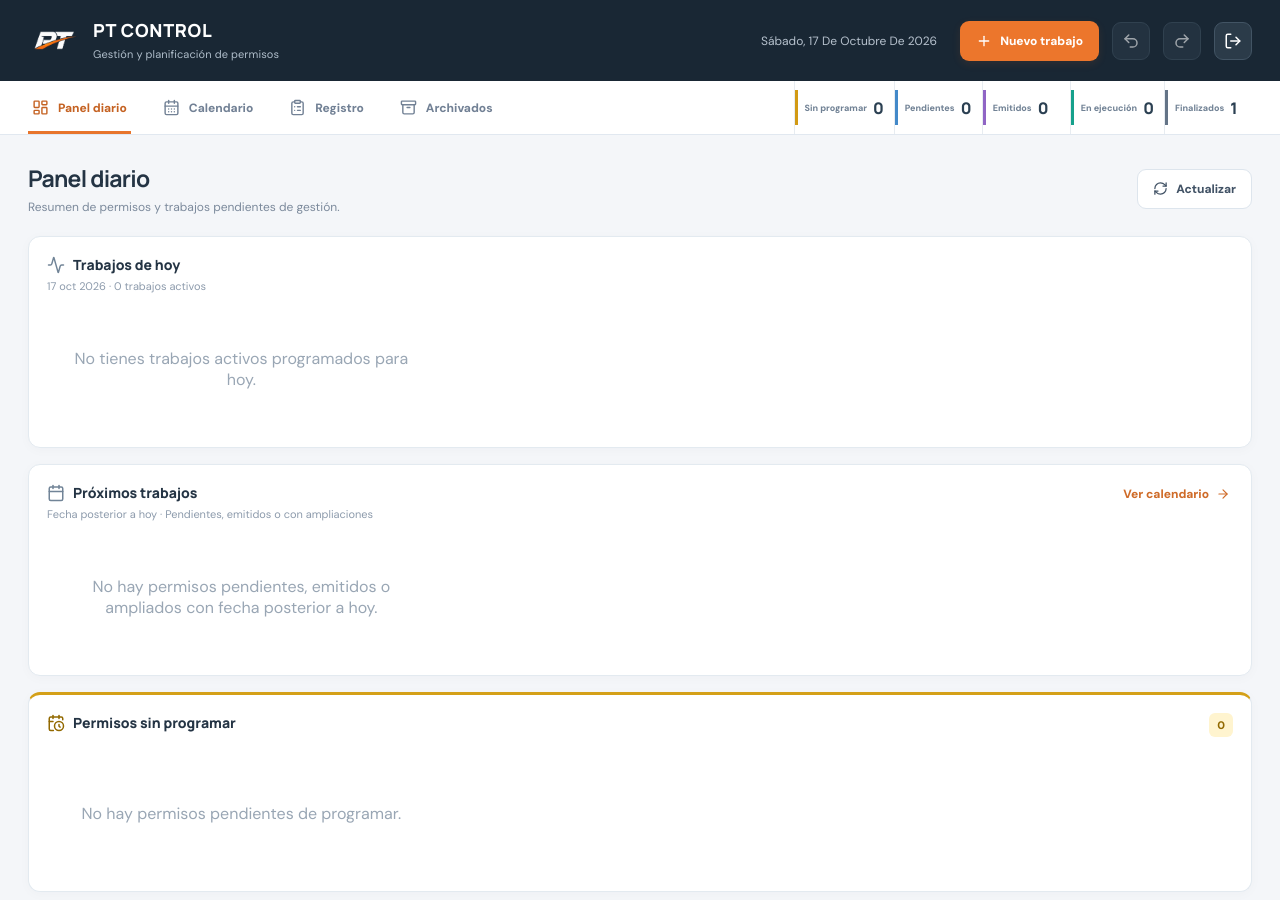
flujos completos con backend simulado solo en pruebas › puede reabrir un finalizado y volver a editarlo sin recuperar un estado obsoleto
The width and height of the screenshot is (1280, 900).
Expected: the heading "Panel diario" is shown, [28, 162, 150, 194]
Click the button "Archivados": (446, 108) [396, 81, 496, 134]
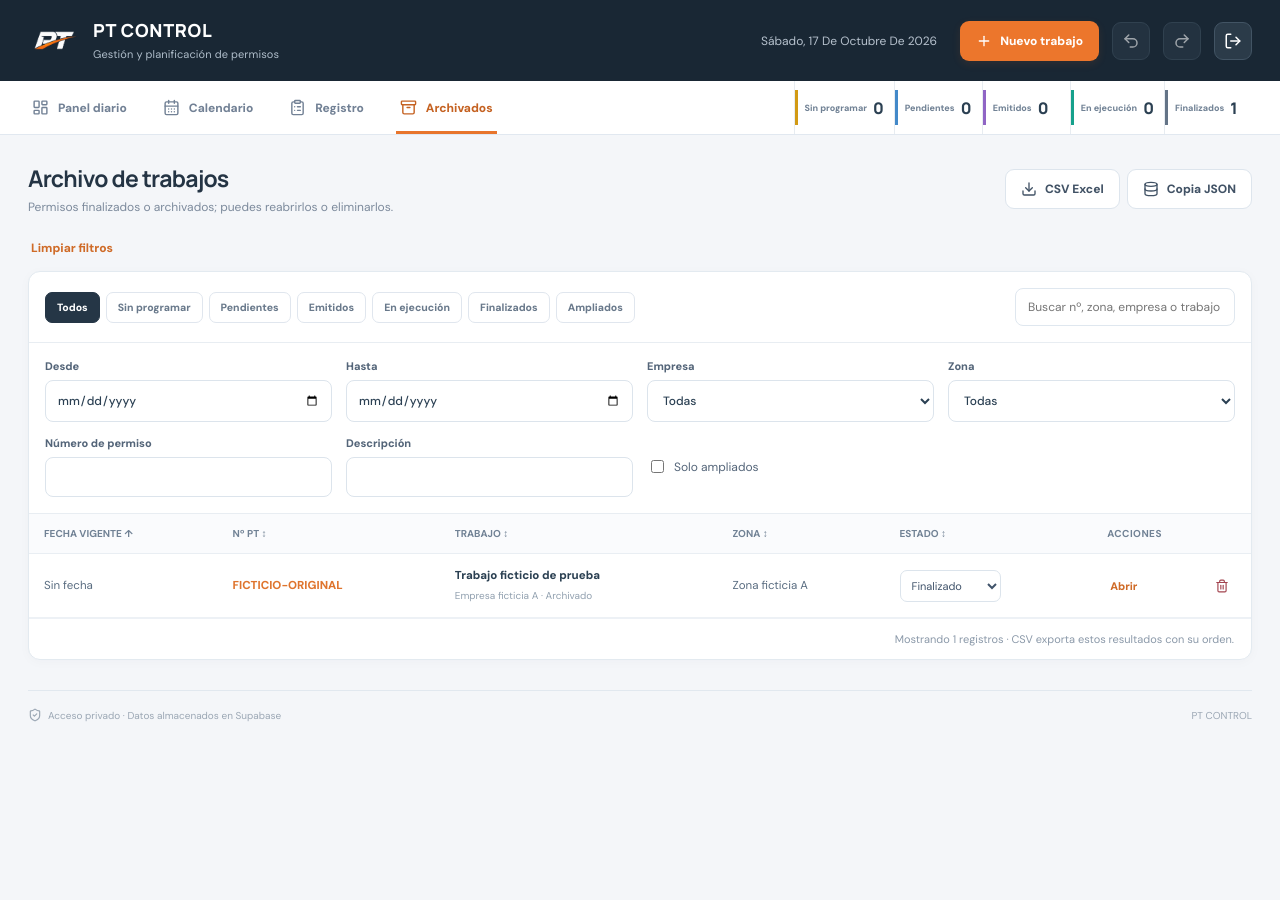
Click the button "Trabajo ficticio de prueba": (527, 576) [455, 568, 600, 583]
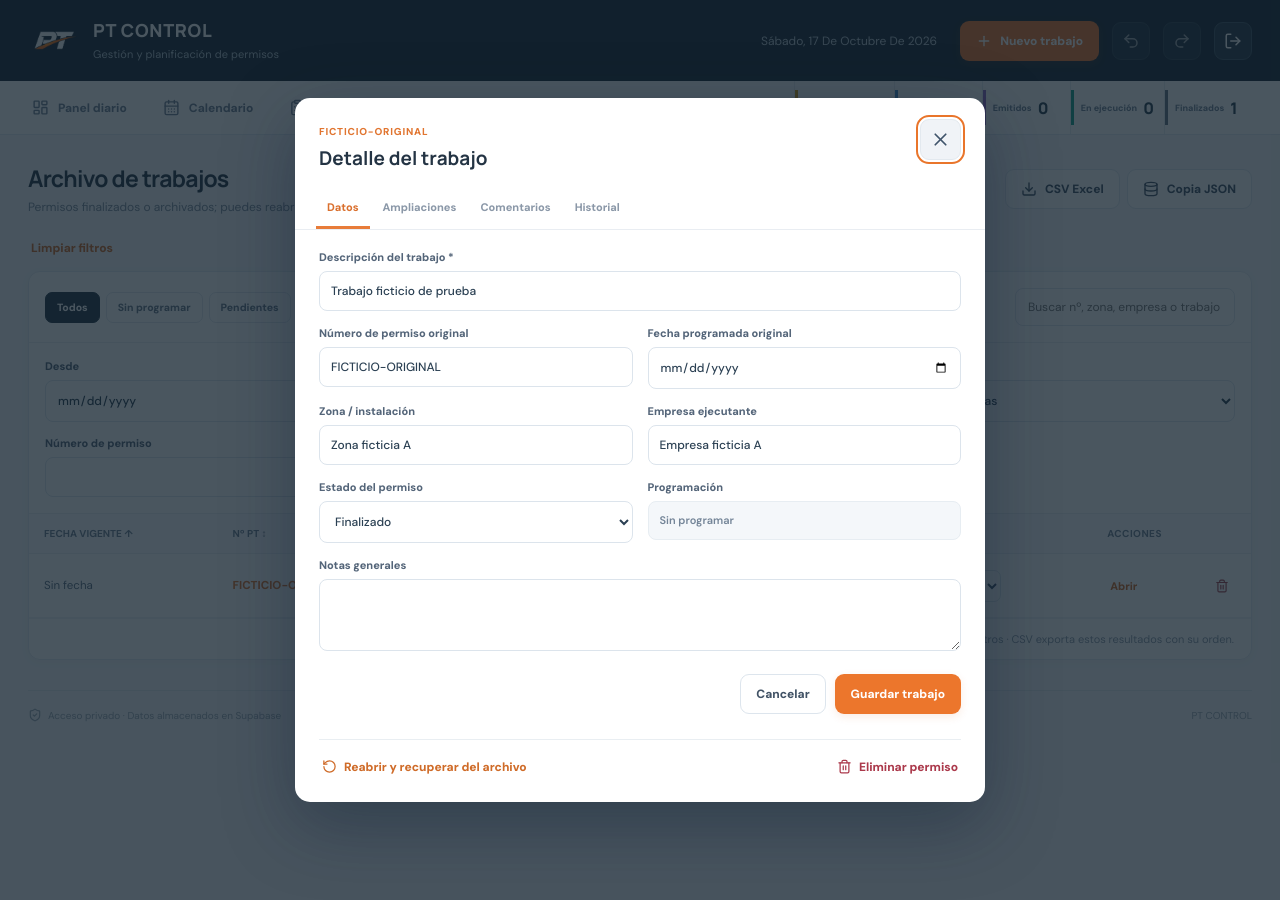
Click the button "Reabrir y recuperar del archivo": (424, 767) [319, 756, 530, 778]
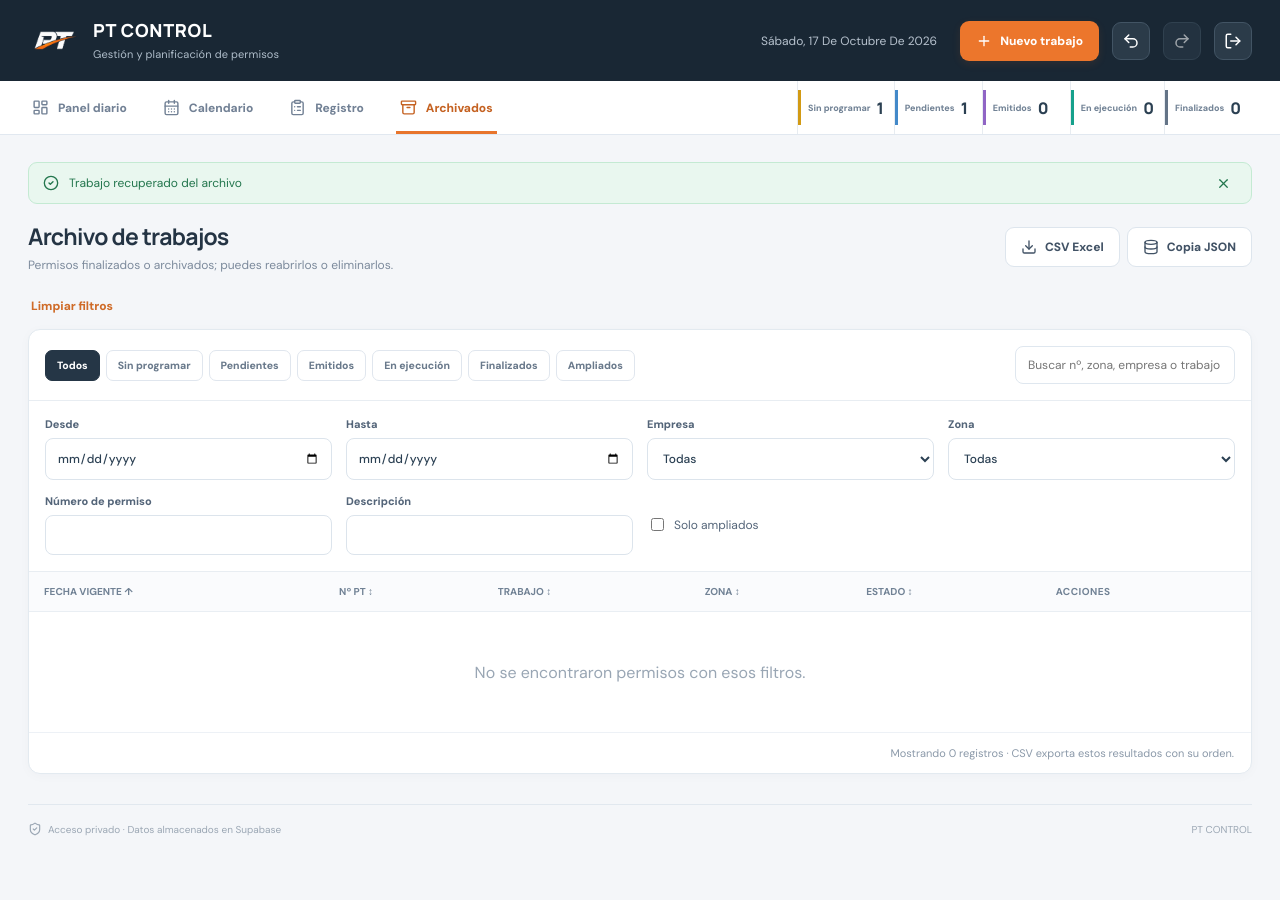
Expected: the dialog is gone
Click the button "Panel diario": (79, 108) [28, 81, 131, 134]
(page scrolled)
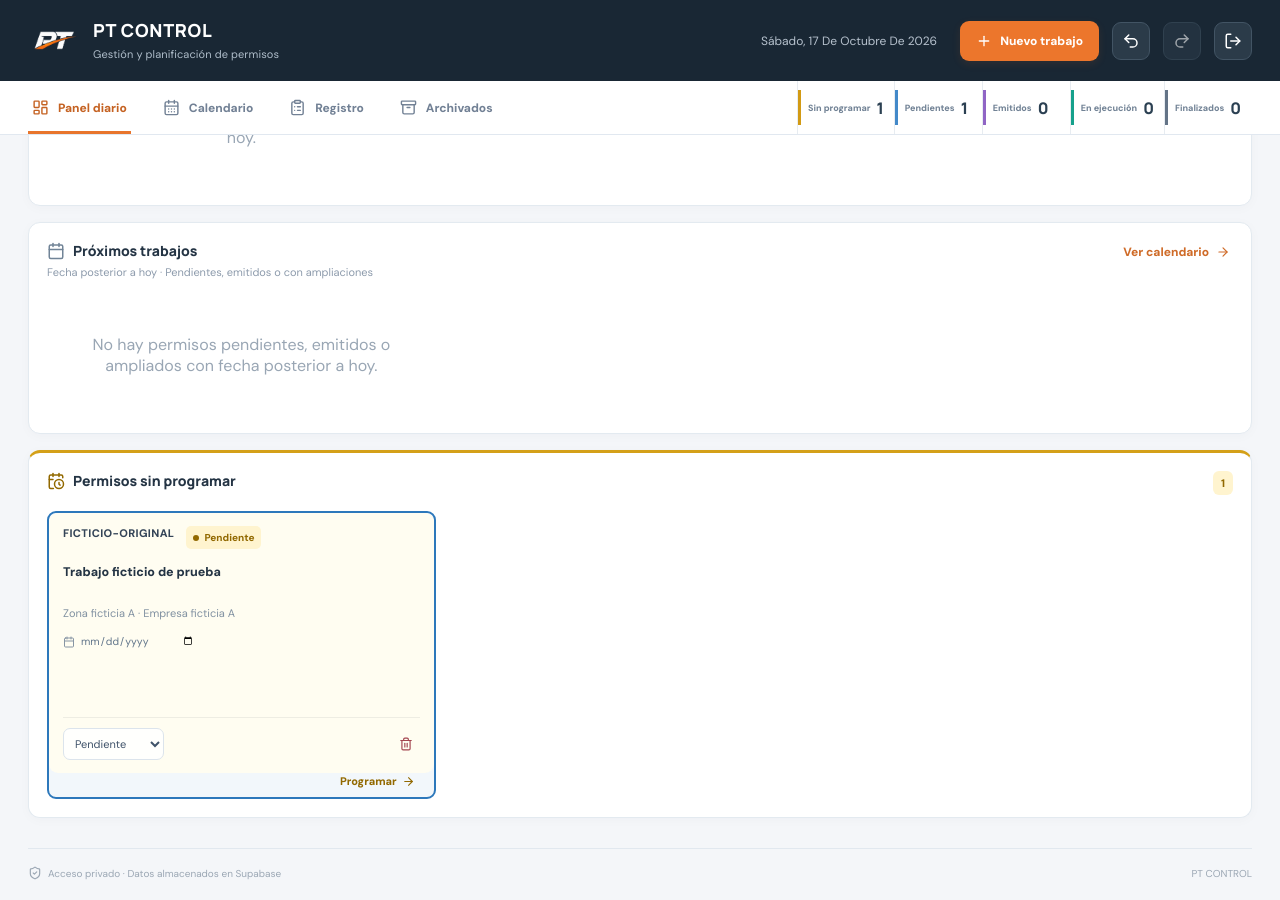
Click the button with aria-label "Abrir Trabajo ficticio de prueba": (119, 533) [63, 526, 420, 622]
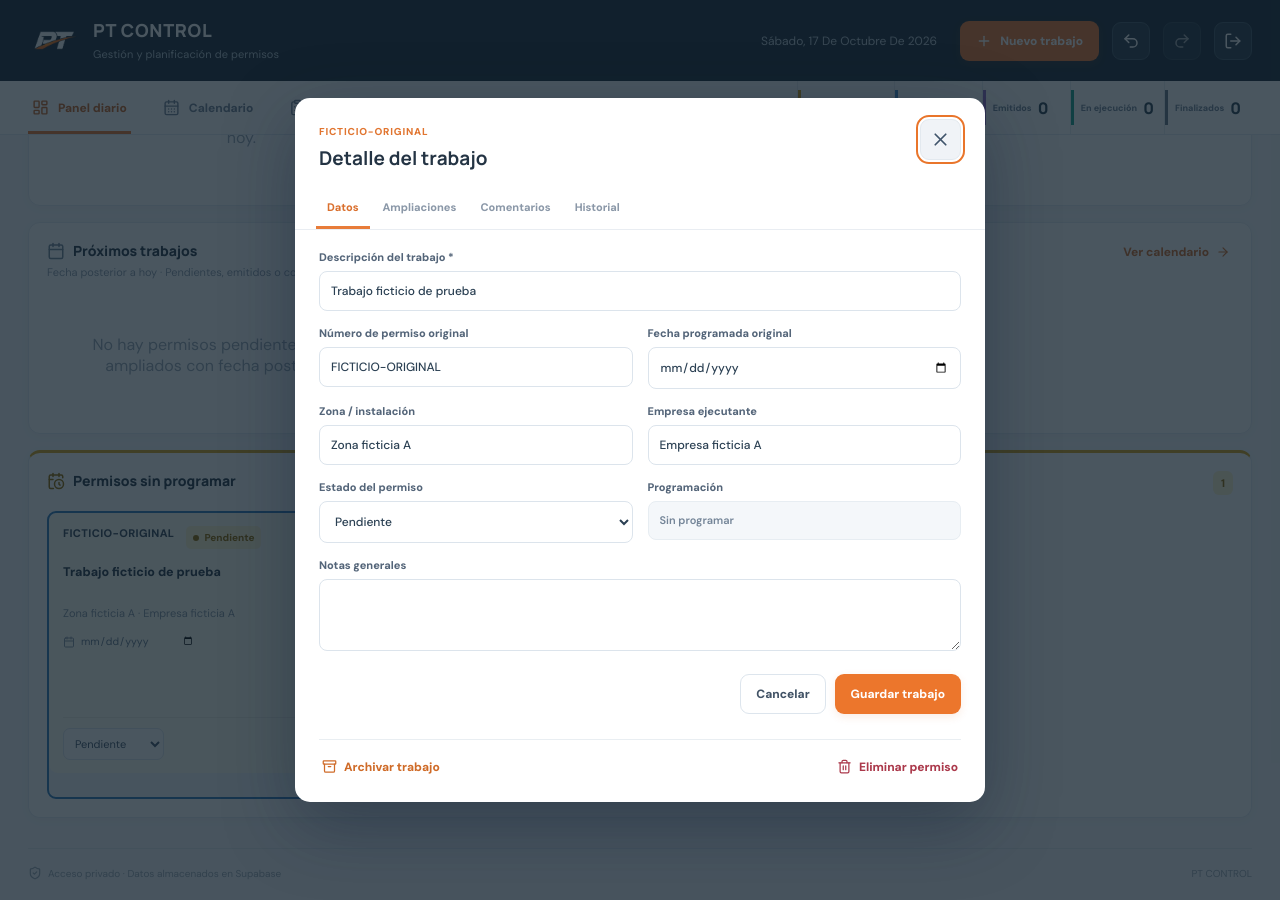
Expected: the dropdown labelled "Estado del permiso" shows "Pendiente", [319, 501, 632, 543]
